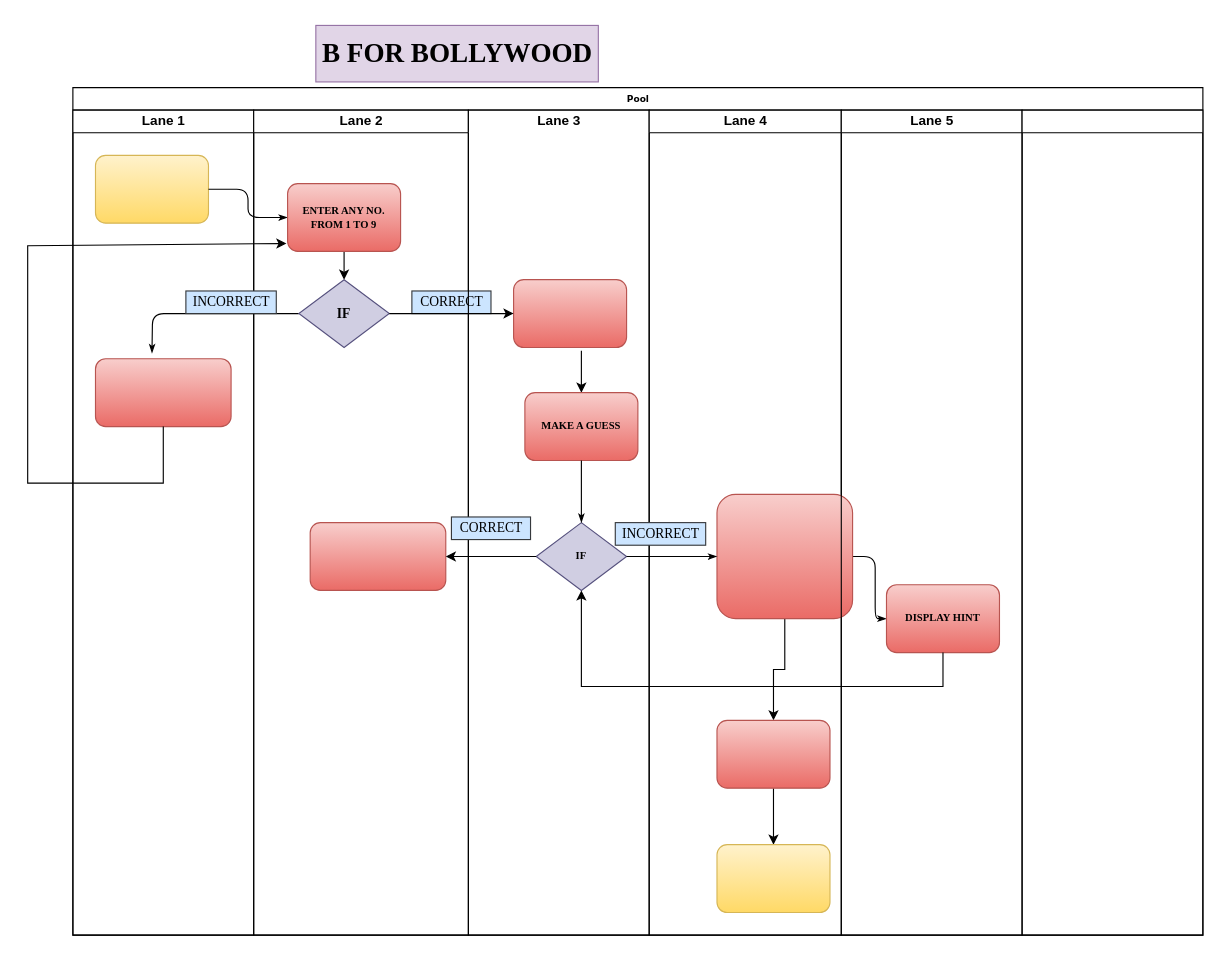
The diagram is 1223 pixels wide and 955 high, and some of its shapes have lost their labels. The centre of each missing label's shape, as x and y in pixels:
BRAVO!: the point at 377,555
DISPLAY CORRECT ANSWER: the point at 773,753
DISPLAY INITIALS OF HERO,HEROINE,SONG AND MOVIE: the point at 569,313
DISPLAY MSG INVALID INPUT: the point at 162,392
END: the point at 773,878
KEEP REDUCING THE GUESSING CHANCES i.e B O L L Y AFTER HINT CONTINUE W O O D: the point at 784,556
Lane 6: the point at 1112,522
START: the point at 151,188
